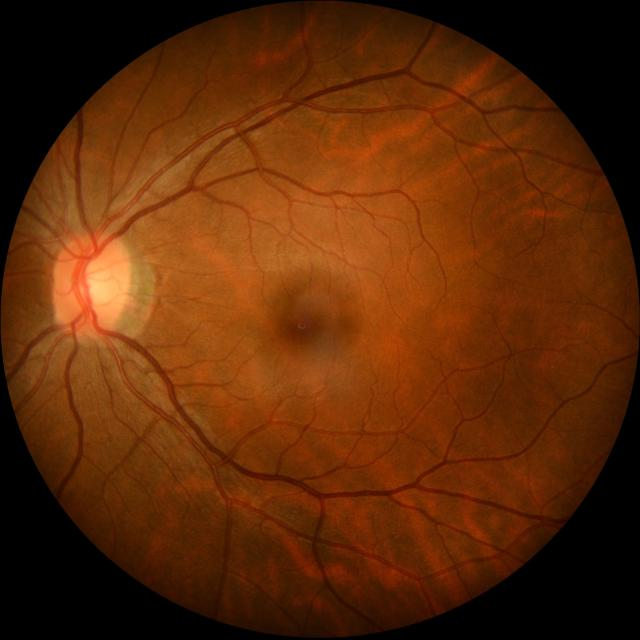OC: (78, 258, 117, 310)
OD: (51, 232, 130, 335)
